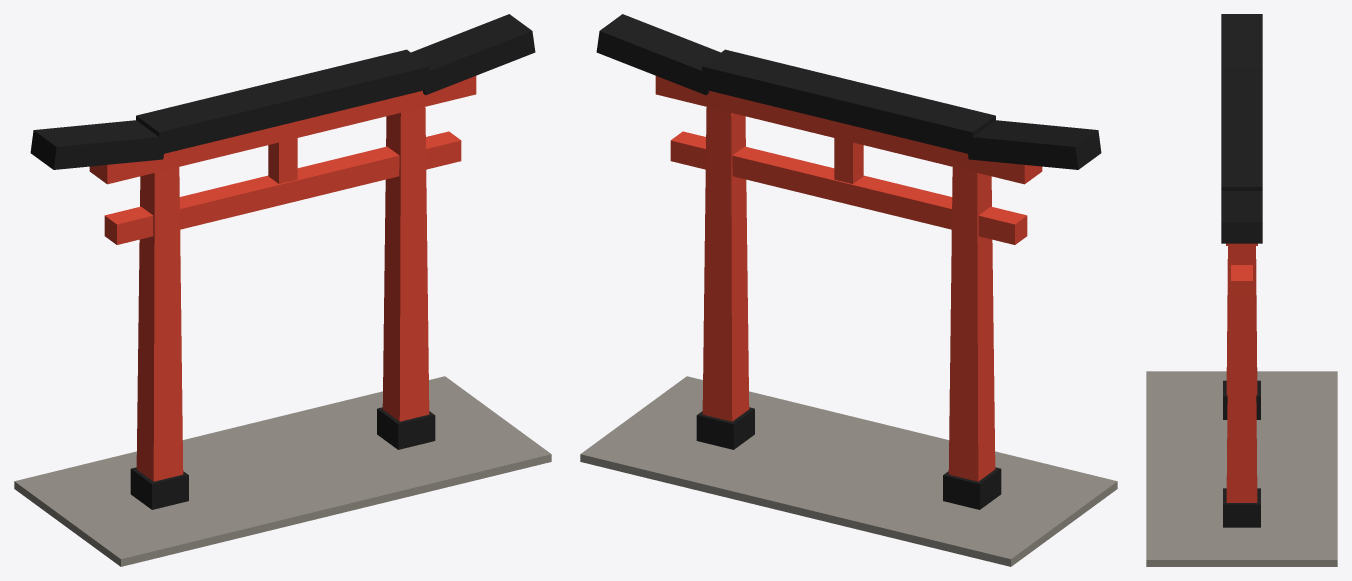
Rendered from torii.glb.
The picture shows the model from 3 angles, left to right: view 1: azimuth 30°, elevation 25°; view 2: azimuth 150°, elevation 25°; view 3: azimuth 270°, elevation 25°; orthographic projection. The views are drawn at different scales.
Size of the model in its own units: 0.7831 by 0.6134 by 0.3.
